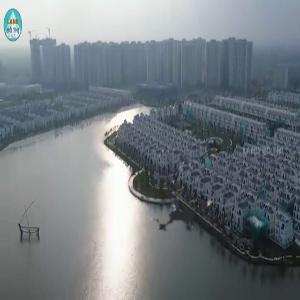drone: (127, 160, 239, 272)
